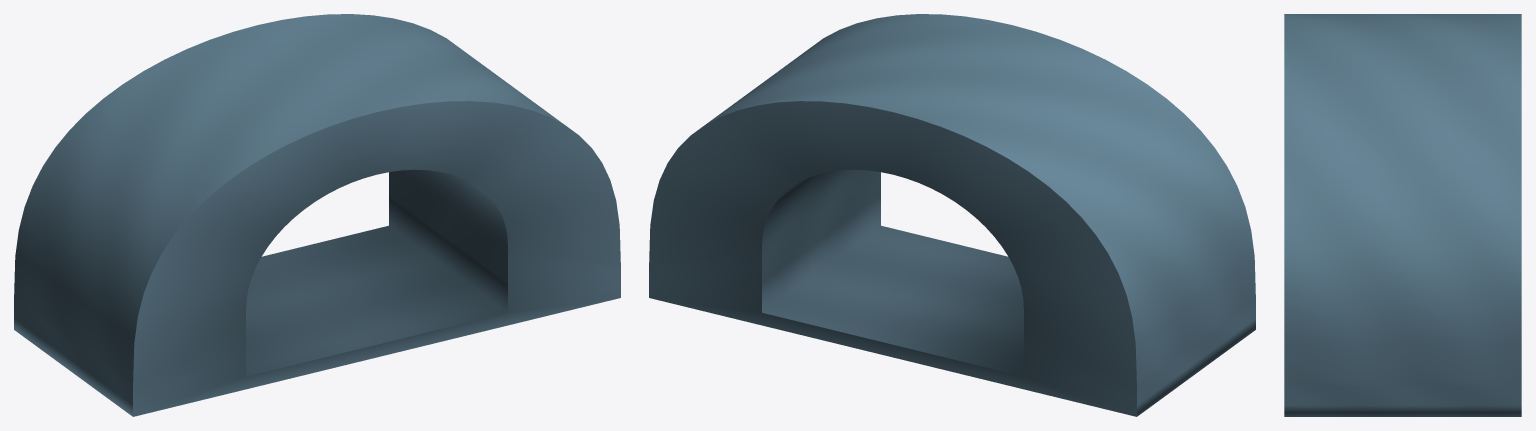
File: straight_12m_terrain.glb
The picture shows the model from 3 angles, left to right: view 1: azimuth 30°, elevation 25°; view 2: azimuth 150°, elevation 25°; view 3: azimuth 270°, elevation 25°; orthographic projection.
Visible parts, largest first — view 1: TerrainRoof.004; view 2: TerrainRoof.004; view 3: TerrainRoof.004.
Boxes of the visible parts, x1=… form: TerrainRoof.004: x1=14, y1=14, x2=620, y2=416; TerrainRoof.004: x1=649, y1=14, x2=1255, y2=416; TerrainRoof.004: x1=1284, y1=14, x2=1521, y2=416.
Size of the model in its own units: 28.4 by 13.65 by 12.
